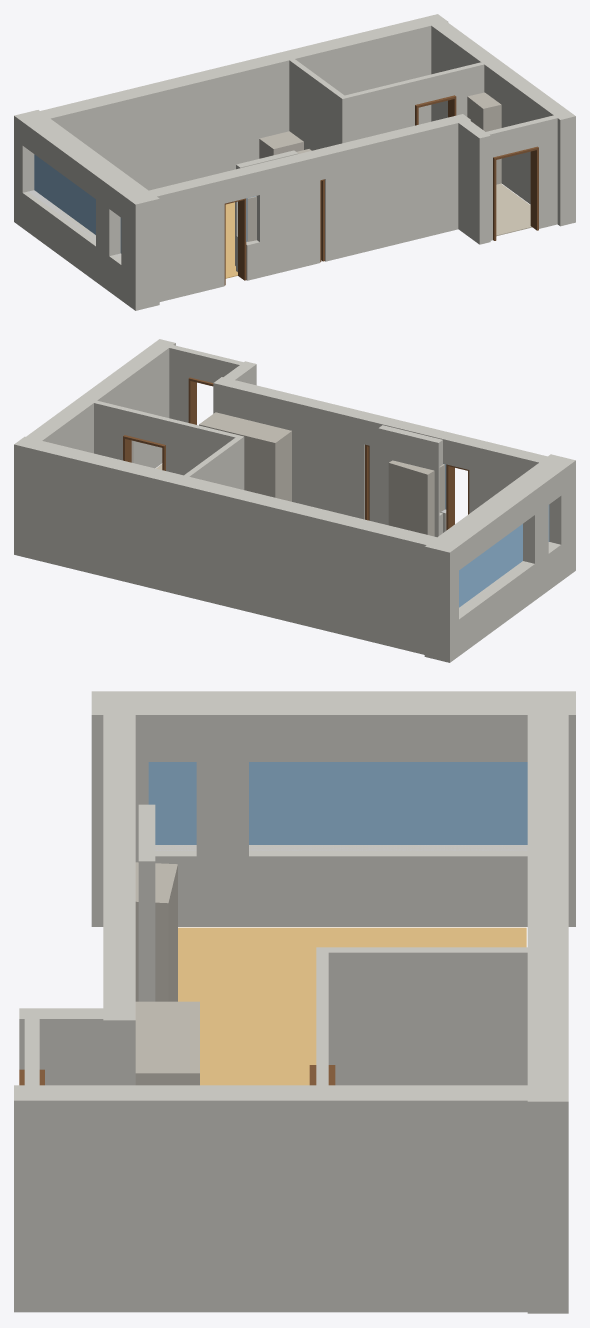
3 views of the same model, one above another, from view 1: azimuth 30°, elevation 25°; view 2: azimuth 150°, elevation 25°; view 3: azimuth 270°, elevation 25° (orthographic). The views are drawn at different scales.
Visible parts, largest first — view 1: walls, window_2, floor_1_Entry, furniture_0_closet, door_0, door_5, furniture_3_appliance, floor_0_Kitchen, furniture_2_closet, door_6, door_1; view 2: walls, furniture_1_closet, furniture_2_closet, window_2, door_5, door_0, door_1; view 3: walls, floor_0_Kitchen, window_2, furniture_1_closet, window_4, furniture_2_closet, sill_2.
Boxes of the visible parts, box(x1,y1,x2,y2) form: walls: box(14, 14, 575, 310); window_2: box(34, 154, 95, 234); floor_1_Entry: box(496, 183, 532, 236); furniture_0_closet: box(467, 92, 501, 184); door_0: box(493, 146, 538, 240); door_5: box(224, 198, 246, 285); furniture_3_appliance: box(259, 131, 303, 158); floor_0_Kitchen: box(225, 202, 237, 278); furniture_2_closet: box(235, 196, 256, 265); door_6: box(320, 179, 324, 261); door_1: box(415, 95, 456, 125); walls: box(14, 339, 575, 662); furniture_1_closet: box(199, 412, 291, 501); furniture_2_closet: box(388, 460, 445, 536); window_2: box(459, 524, 522, 607); door_5: box(446, 464, 469, 530); door_0: box(188, 377, 213, 424); door_1: box(123, 435, 165, 470); walls: box(14, 691, 575, 1313); floor_0_Kitchen: box(178, 927, 526, 1085); window_2: box(249, 762, 527, 844); furniture_1_closet: box(135, 1001, 199, 1085); window_4: box(148, 762, 196, 844); furniture_2_closet: box(135, 862, 177, 1001); sill_2: box(249, 845, 527, 850).
Bounding box in the file's own units: 11.21 × 2.72 × 6.49.
